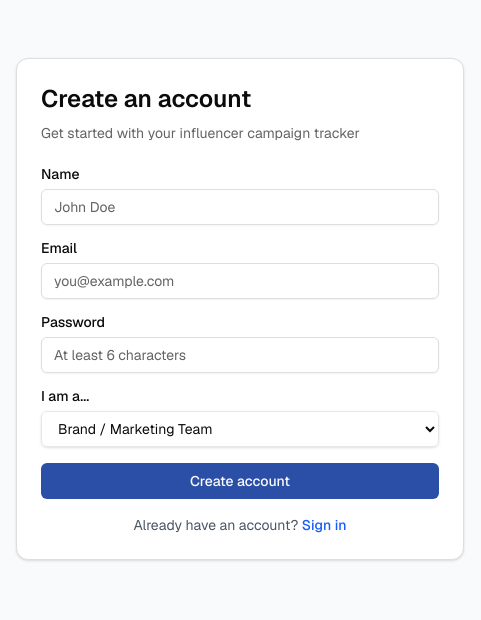
it: RegisterPage › validates required fields
Click the button "Create account" at coordinates (240, 481), box [41, 463, 439, 499]
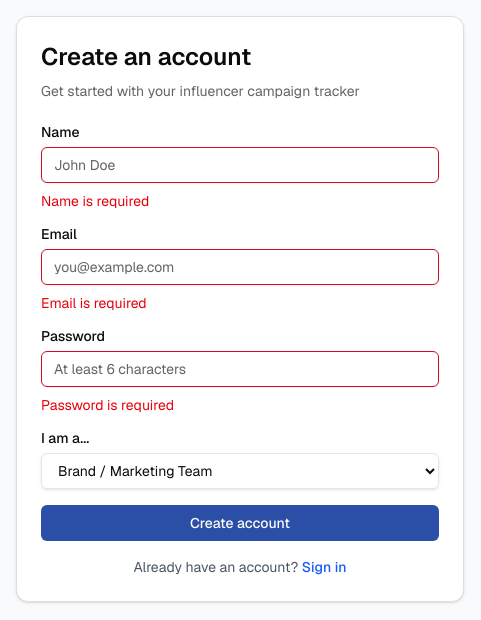
Expected: the text "Name is required" is shown, [41, 192, 149, 210]
Expected: the text "Email is required" is shown, [41, 294, 147, 312]
Expected: the text "Password is required" is shown, [41, 396, 174, 414]
